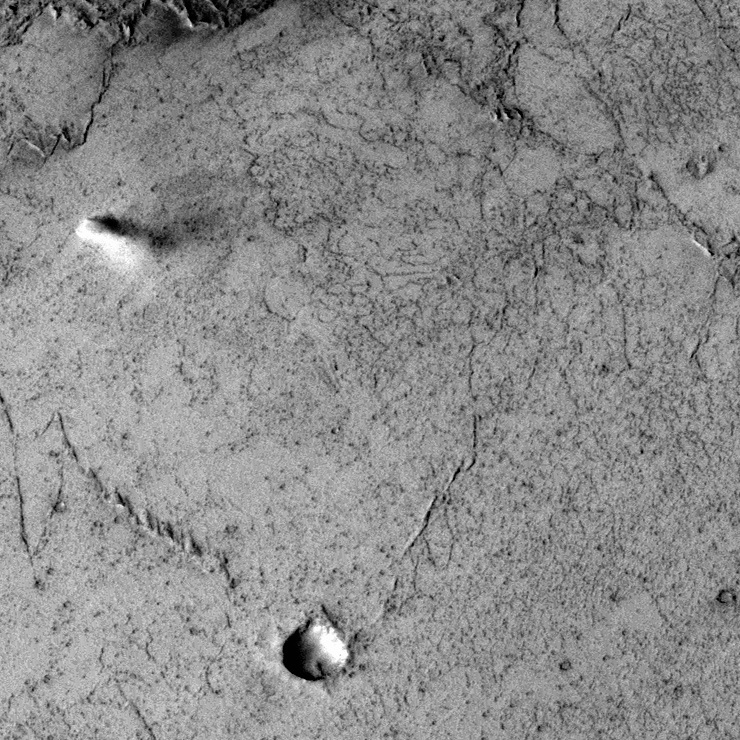dust_devil: (73, 209, 208, 269)
